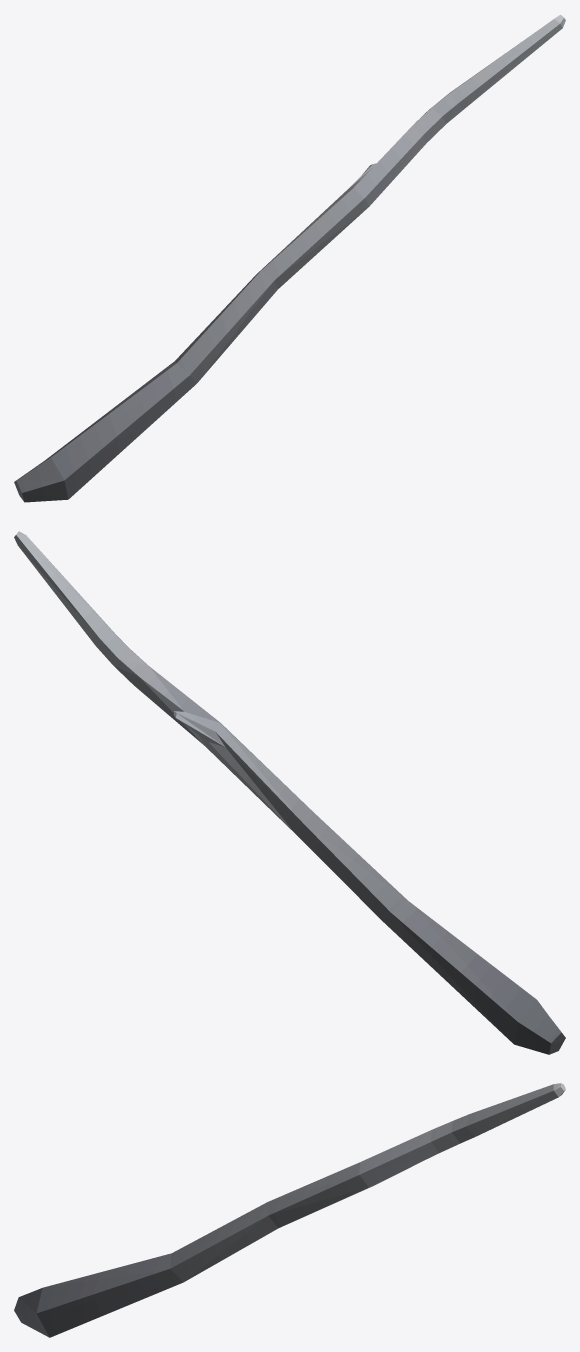
The model's file is CharSkyKid_Prop_MarshmallowStick.glb.
3 views of the same model, one above another, from view 1: azimuth 30°, elevation 25°; view 2: azimuth 150°, elevation 25°; view 3: azimuth 330°, elevation 25° (orthographic). The views are drawn at different scales.
Visible parts, largest first — view 1: CharSkyKid_Prop_MarshmallowStick; view 2: CharSkyKid_Prop_MarshmallowStick; view 3: CharSkyKid_Prop_MarshmallowStick.
Boxes of the visible parts, x1,y1,x2,y2 form: CharSkyKid_Prop_MarshmallowStick: (14, 14, 565, 502); CharSkyKid_Prop_MarshmallowStick: (14, 531, 565, 1054); CharSkyKid_Prop_MarshmallowStick: (14, 1083, 565, 1337).
Size of the model in its own units: 6.22 by 4.04 by 0.4839.
Materials: 1 (1 with a texture image).
